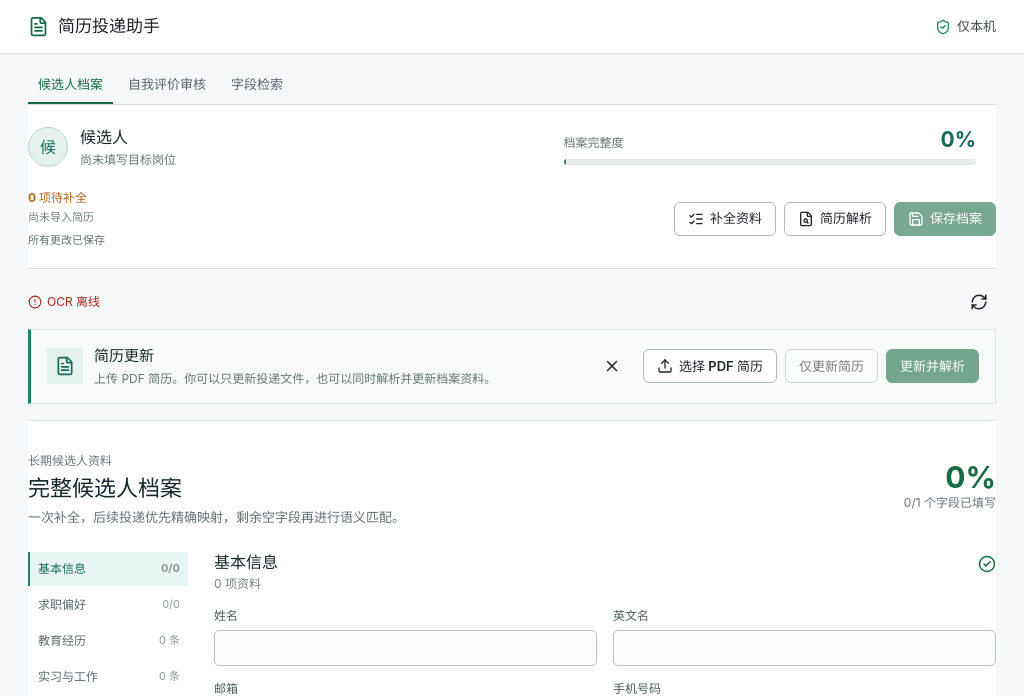
ServiceStatus › allows self-evaluation while DeepSeek is configured
Click the button "自我评价审核" at (167, 86), box [118,68,216,104]
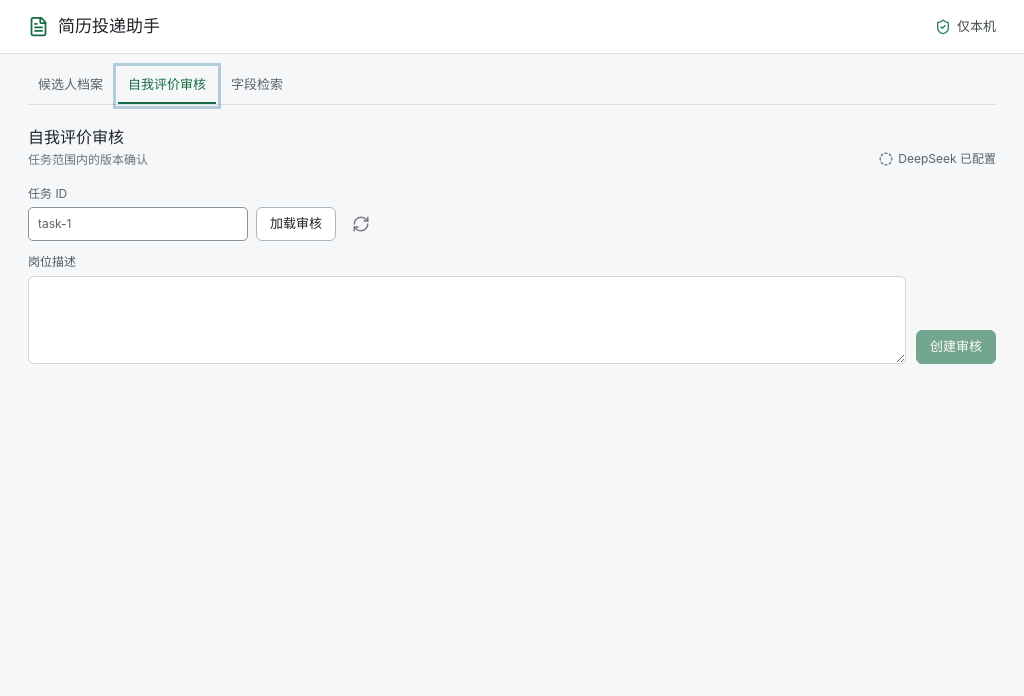
Type "React role" into the text box labelled "岗位描述" at (467, 320), box [28,276,906,364]
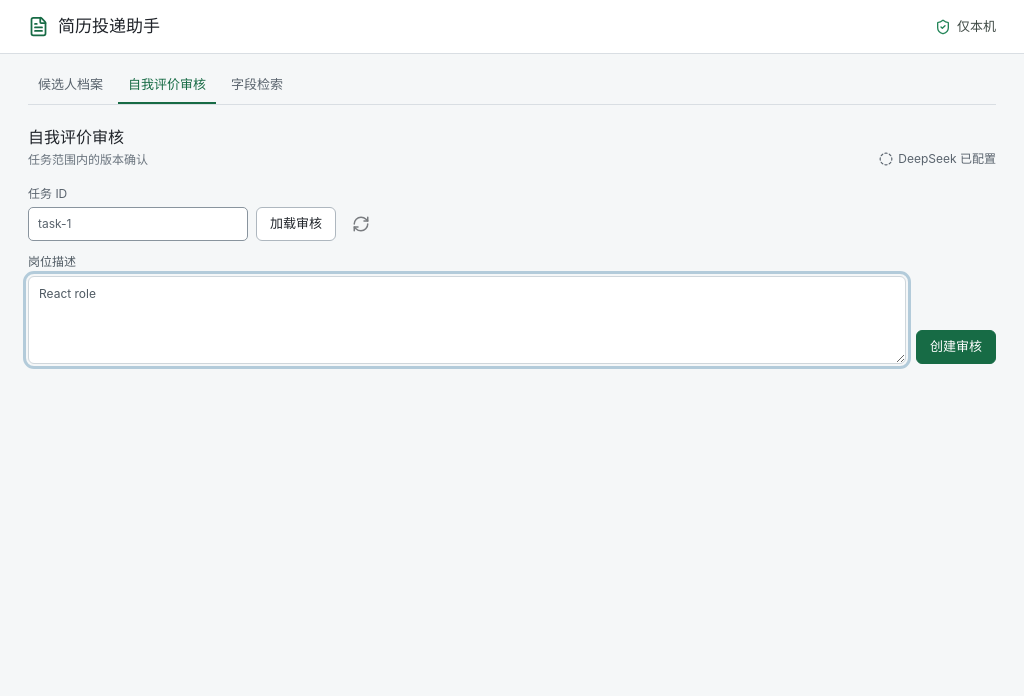
Check: the button "创建审核" is enabled, box [916,330,996,364]
